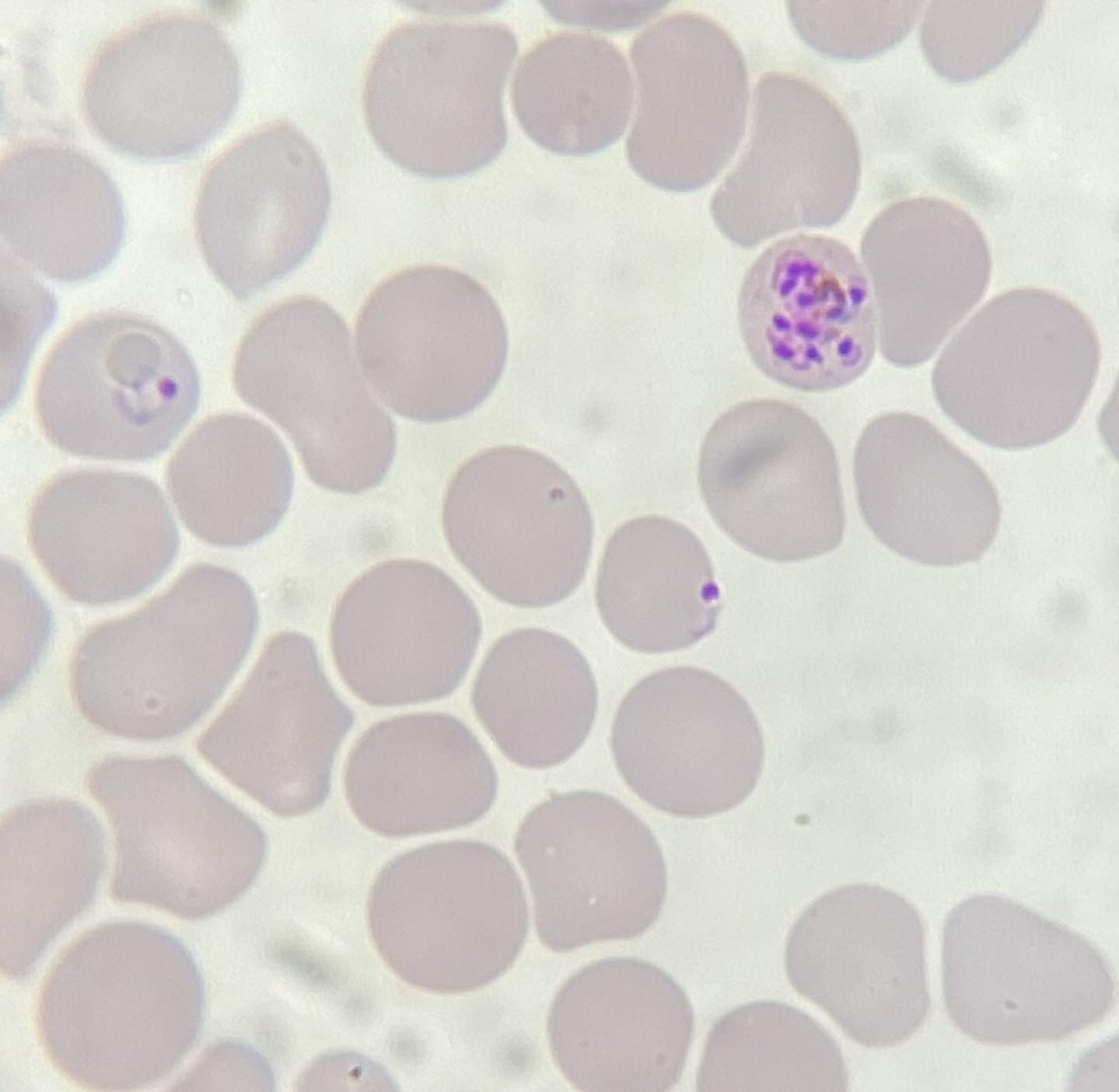Infected: (33, 305, 199, 464), (736, 231, 874, 392), (593, 517, 723, 653)
Uninfected: (72, 558, 255, 739), (233, 300, 395, 492), (89, 748, 268, 916), (198, 628, 356, 817), (39, 918, 201, 1092), (933, 290, 1103, 450), (945, 888, 1115, 1045), (708, 72, 862, 239), (783, 881, 932, 1050), (513, 789, 666, 952), (608, 665, 767, 818), (365, 22, 523, 175), (194, 119, 328, 298), (352, 263, 502, 422), (443, 447, 591, 607), (367, 840, 526, 988), (700, 399, 844, 562), (620, 16, 751, 192), (80, 16, 241, 158), (23, 467, 184, 608), (853, 410, 1000, 563), (330, 564, 484, 705), (867, 197, 995, 361), (548, 959, 695, 1092), (342, 712, 496, 838), (163, 408, 294, 549), (470, 626, 596, 770), (0, 140, 126, 276), (509, 28, 638, 155)
